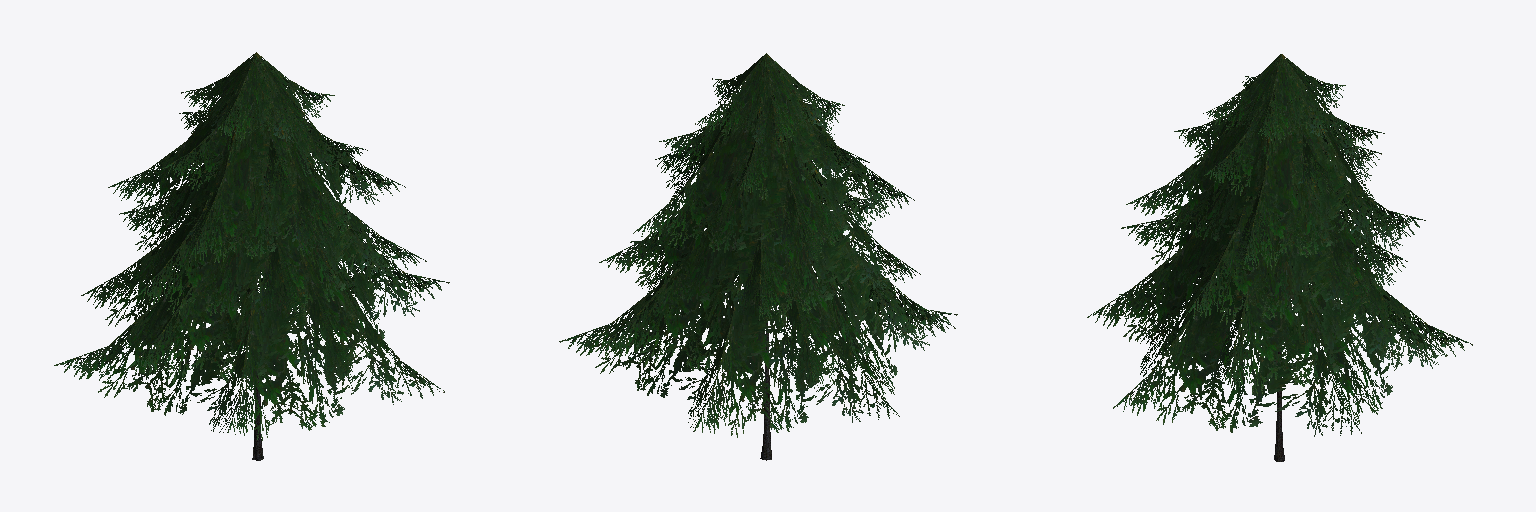
3 views of the same model, side by side, from view 1: azimuth 30°, elevation 25°; view 2: azimuth 150°, elevation 25°; view 3: azimuth 270°, elevation 25° (orthographic).
Visible parts, largest first — view 1: node_id7_mesh_id5; view 2: node_id7_mesh_id5; view 3: node_id7_mesh_id5.
Boxes of the visible parts, <box> form: node_id7_mesh_id5: <box>54,52,449,460</box>; node_id7_mesh_id5: <box>559,53,957,460</box>; node_id7_mesh_id5: <box>1087,54,1472,461</box>.
Bounding box in the file's own units: 0.8697 × 1.01 × 0.871.
Materials: 2 (2 with a texture image).